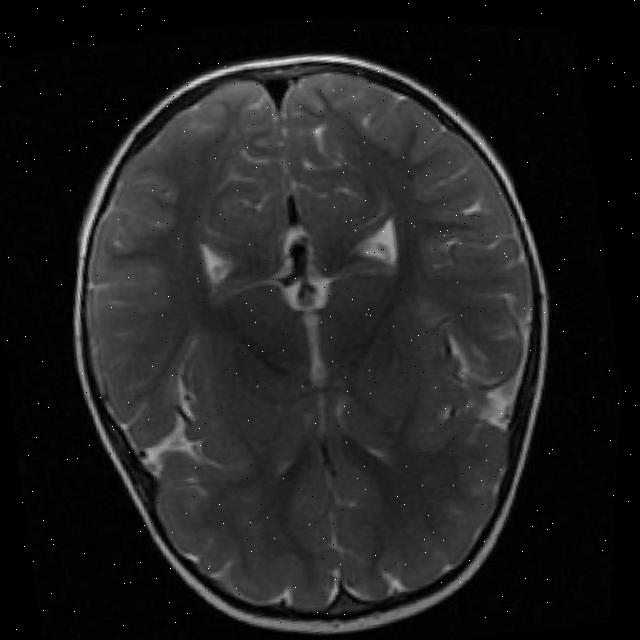NoTumor: (23, 17, 606, 640)
